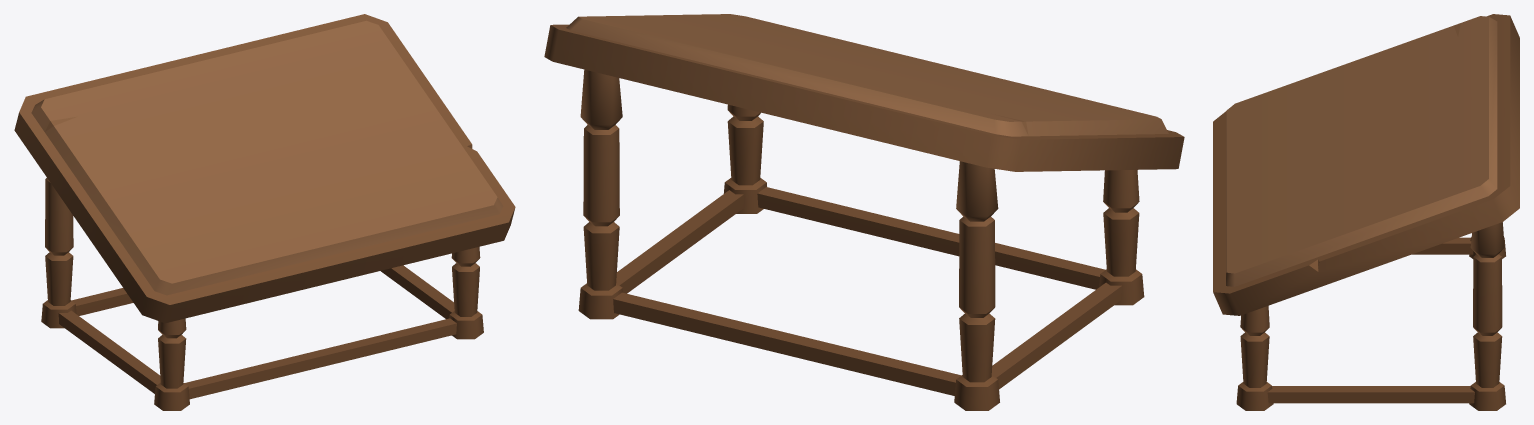
File: Bookstand1.fbx
The picture shows the model from 3 angles, left to right: view 1: azimuth 30°, elevation 25°; view 2: azimuth 150°, elevation 25°; view 3: azimuth 270°, elevation 25°; orthographic projection. The views are drawn at different scales.
Visible parts, largest first — view 1: Bookstand1; view 2: Bookstand1; view 3: Bookstand1.
Boxes of the visible parts, x1=… form: Bookstand1: x1=14, y1=14, x2=515, y2=410; Bookstand1: x1=544, y1=14, x2=1184, y2=410; Bookstand1: x1=1213, y1=14, x2=1519, y2=410.
Size of the model in its own units: 60.02 by 35.07 by 41.96.
